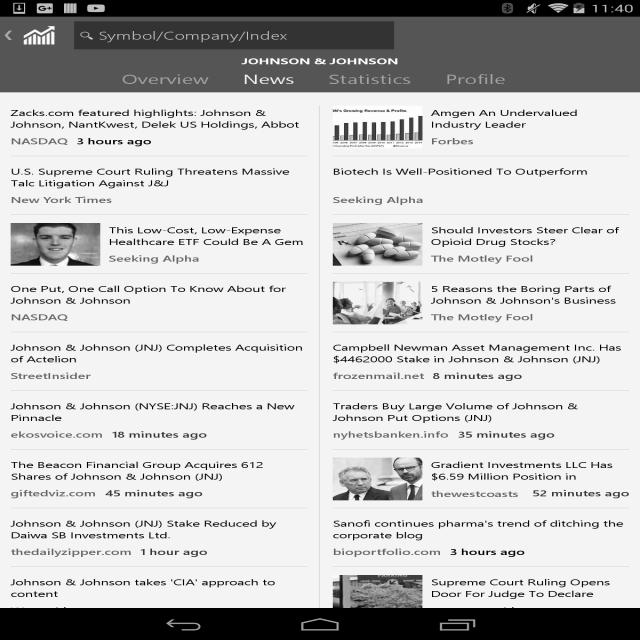EditText: (74, 22, 394, 49)
ImageView: (11, 223, 100, 266), (333, 223, 422, 266), (333, 575, 422, 618), (333, 106, 422, 148), (333, 282, 422, 324), (333, 458, 422, 500), (14, 19, 64, 52), (0, 30, 17, 41)
TextView: (0, 54, 640, 68), (11, 164, 307, 190), (11, 340, 307, 366), (333, 340, 629, 366), (11, 399, 307, 425), (333, 399, 629, 425), (11, 516, 307, 542), (333, 516, 629, 542), (11, 575, 307, 601), (11, 282, 307, 307), (11, 458, 307, 483), (11, 106, 307, 130), (109, 223, 307, 249), (431, 223, 629, 249), (431, 106, 629, 131), (431, 282, 629, 306), (431, 458, 629, 482), (431, 575, 629, 599), (333, 164, 588, 178), (111, 68, 232, 92), (318, 68, 435, 92), (435, 68, 529, 92), (232, 68, 318, 92), (332, 427, 458, 442), (11, 545, 140, 559), (431, 251, 542, 266), (332, 545, 450, 559), (431, 310, 542, 324), (10, 193, 120, 207), (11, 427, 112, 442), (109, 251, 208, 266), (458, 427, 554, 442), (112, 427, 207, 442), (333, 193, 432, 207), (333, 369, 432, 383), (105, 486, 203, 500), (532, 486, 630, 500), (11, 486, 105, 500), (10, 369, 100, 383), (433, 369, 522, 383), (431, 487, 532, 499), (51, 603, 128, 618), (499, 603, 576, 618), (76, 134, 152, 148), (450, 545, 525, 559), (431, 603, 499, 618), (140, 545, 208, 559), (11, 134, 76, 148), (11, 310, 76, 324), (431, 134, 482, 148), (11, 603, 51, 618)
